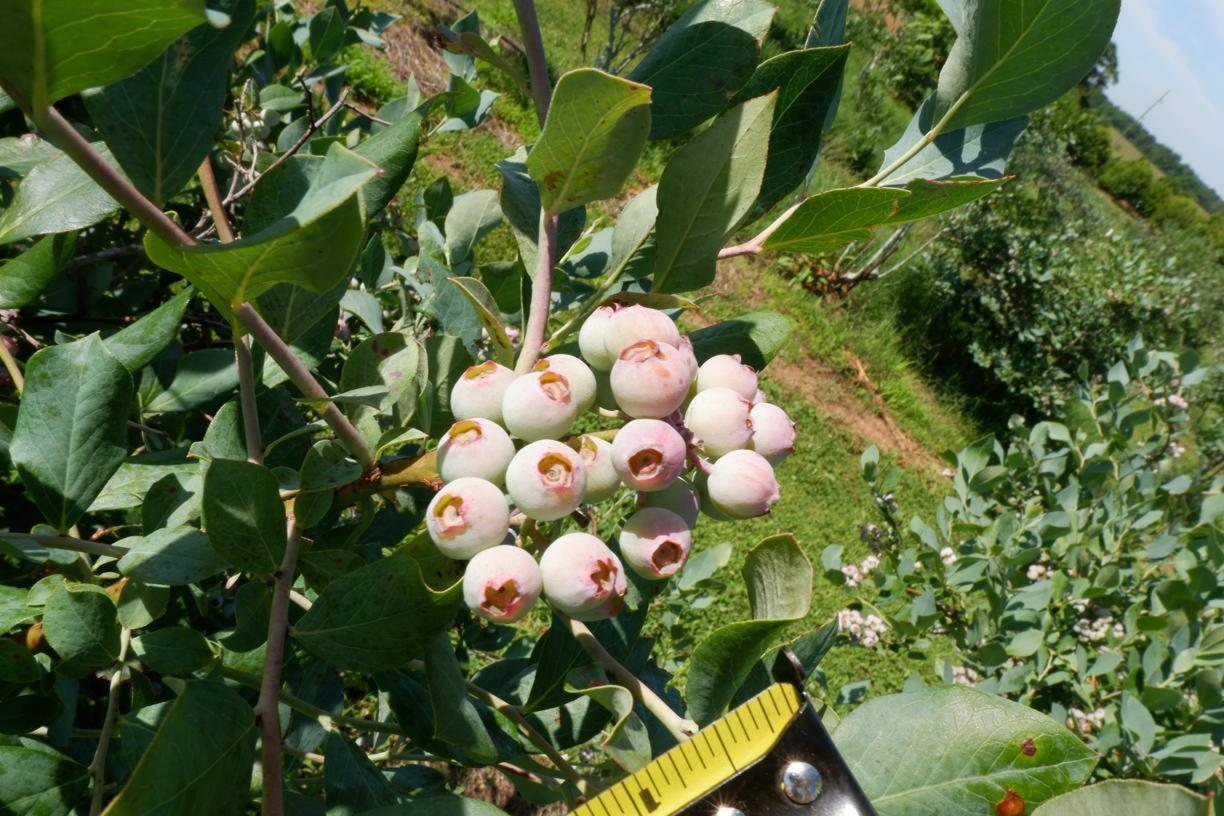Immature: (505, 439, 588, 522), (426, 477, 508, 558), (461, 544, 543, 624), (539, 531, 618, 613), (609, 340, 690, 418), (435, 417, 516, 487), (503, 370, 579, 443), (619, 506, 693, 580), (611, 418, 686, 491), (706, 449, 779, 519), (683, 388, 756, 458), (450, 360, 519, 434), (605, 304, 680, 366), (559, 434, 622, 502), (578, 299, 634, 370), (530, 354, 598, 412), (573, 550, 628, 620), (633, 475, 702, 526), (742, 402, 797, 461), (694, 353, 757, 402), (691, 467, 734, 520), (679, 335, 698, 386), (752, 388, 767, 404)
